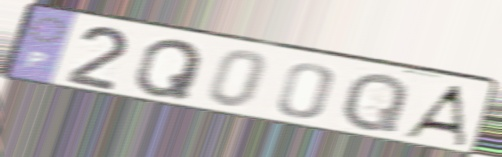0: (203, 49, 270, 111), (274, 62, 338, 120)
2: (64, 26, 129, 93)
A: (399, 83, 468, 149)
Q: (131, 38, 206, 101), (338, 71, 412, 134)
